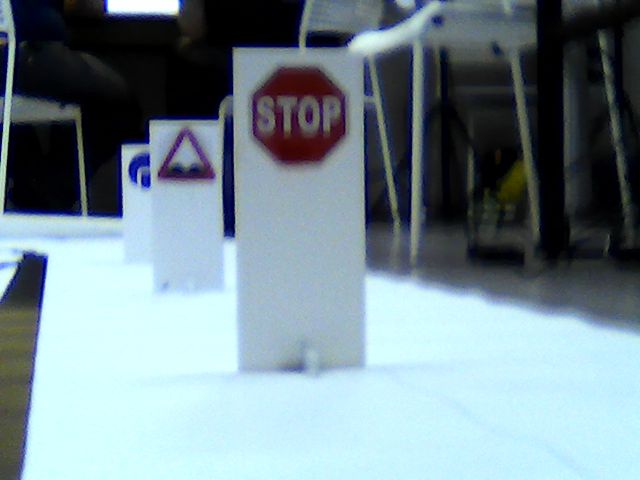Nerov: (158, 127, 217, 179)
Stop: (254, 66, 352, 167)
